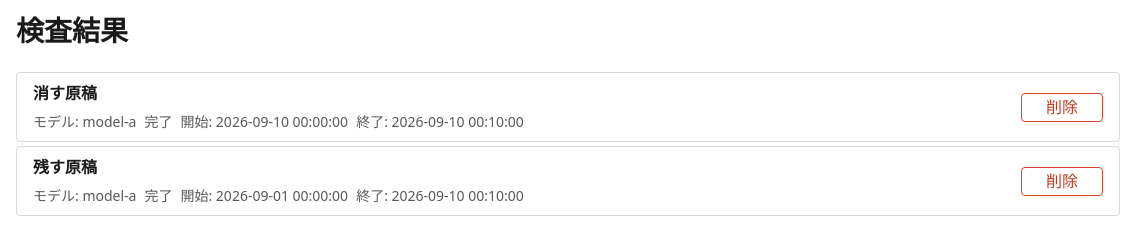
Test: RunListPage の削除（仕様 8.3） › 確認で OK したら deleteRun を呼び、成功したらその行だけを外す
Expected: the link "消す原稿" is shown, [33,82,524,131]
Click the button "削除" in the row of "消す原稿" at coordinates (1062, 107), box [1021,93,1103,122]
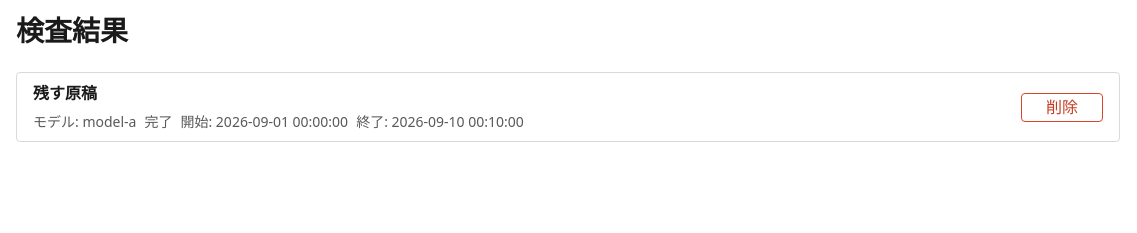
Expected: the link "残す原稿" is shown, [33,82,524,131]
Expected: the link "消す原稿" is gone
